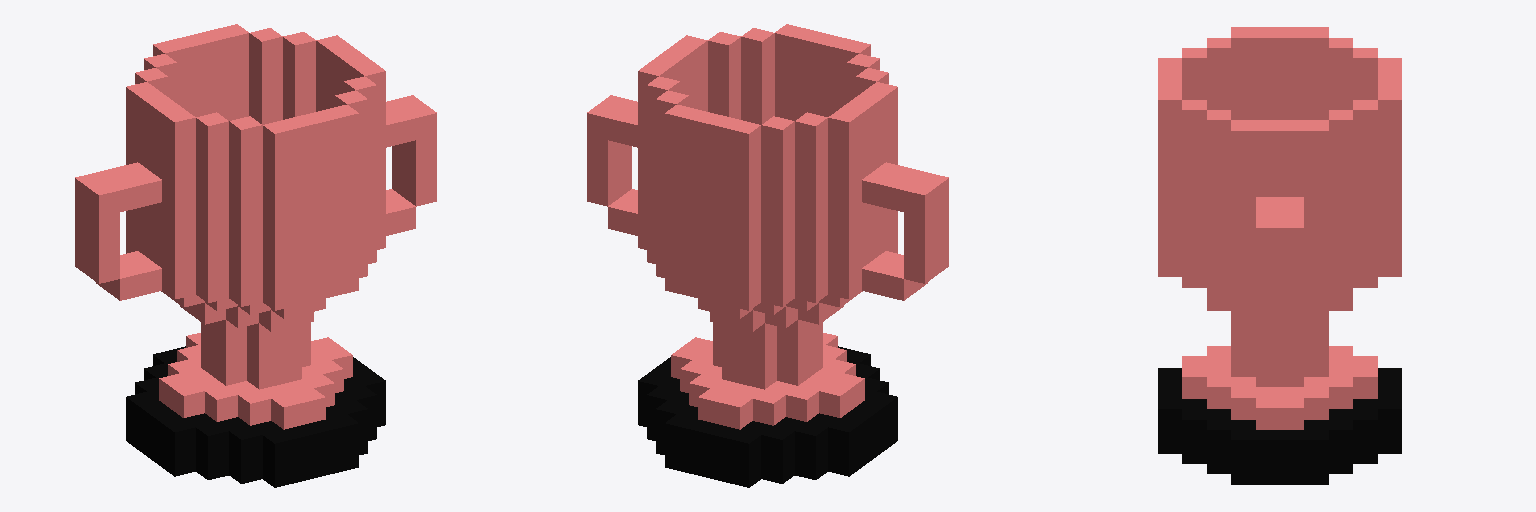
The picture shows the model from 3 angles: view 1: azimuth 30°, elevation 25°; view 2: azimuth 150°, elevation 25°; view 3: azimuth 270°, elevation 25°; orthographic projection.
Visible parts, largest first — view 1: Trophy-12; view 2: Trophy-12; view 3: Trophy-12.
Boxes of the visible parts, box(x1,y1,x2,y2) form: Trophy-12: box(75, 24, 436, 487); Trophy-12: box(587, 24, 948, 487); Trophy-12: box(1158, 27, 1401, 484).
Bounding box in the file's own units: 16 × 16 × 10.
1 materials, 1 textured.